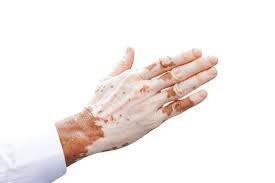vitiligo: (98, 58, 199, 124)
